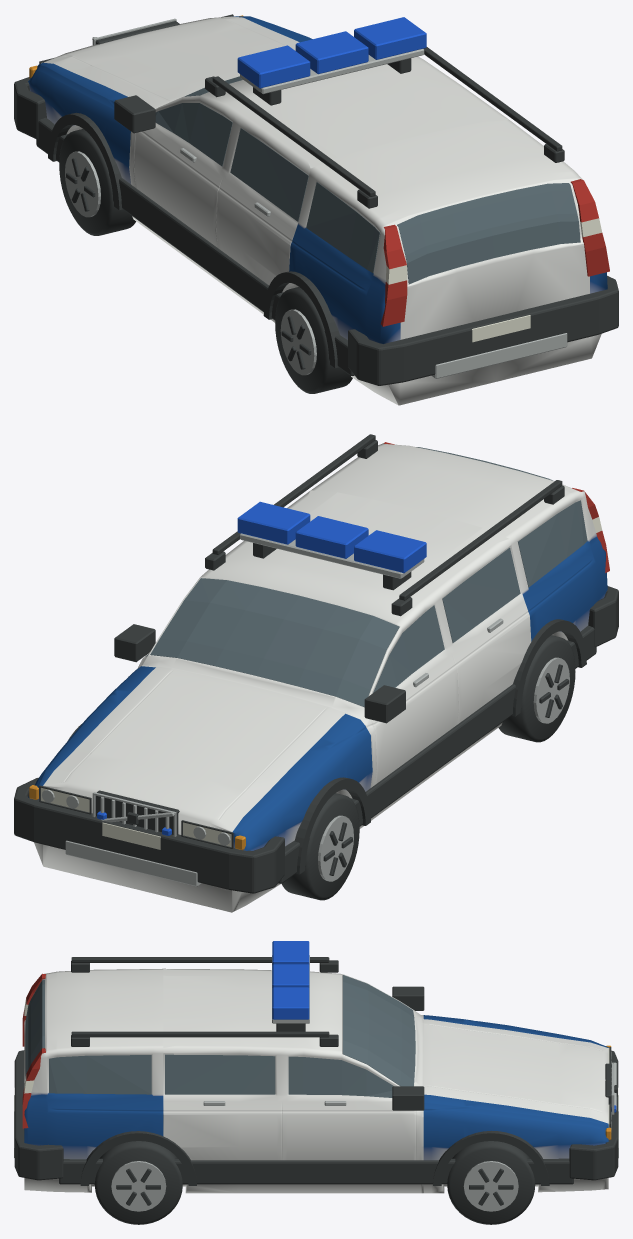
File: xc70-police.glb
3 views of the same model, one above another, from view 1: azimuth 30°, elevation 25°; view 2: azimuth 150°, elevation 25°; view 3: azimuth 270°, elevation 25° (orthographic). The views are drawn at different scales.
Parts seen in each view (by area): view 1: body, glass_envelope, bumper_rear, trim_sill, wheel_rl, wheel_fl, lamp_blue_module, lamp_blue_module.001, lamp_blue_module.002, lamp_tail, trim_skid_rear, lamp_tail.001 (+12 smaller); view 2: body, glass_envelope, bumper_front, trim_sill, wheel_rl, wheel_fl, lamp_blue_module, lamp_blue_module.002, lamp_blue_module.001, trim_skid_front, trim_arch, trim_arch.001 (+10 smaller); view 3: body, glass_envelope, trim_sill.001, wheel_fr, wheel_rr, bumper_rear, bumper_front, trim_rim_rr, trim_rim_fr, trim_roof_rail.001, trim_arch.002, trim_arch.003 (+9 smaller).
Part boxes in pixels (left/top/right/bottom): body: left=28, top=16, right=607, bottom=405; glass_envelope: left=155, top=76, right=580, bottom=284; bumper_rear: left=348, top=275, right=618, bottom=385; trim_sill: left=36, top=117, right=354, bottom=375; wheel_rl: left=275, top=287, right=352, bottom=393; wheel_fl: left=59, top=129, right=135, bottom=235; lamp_blue_module: left=237, top=45, right=310, bottom=88; lamp_blue_module.001: left=295, top=31, right=368, bottom=74; lamp_blue_module.002: left=354, top=17, right=426, bottom=59; lamp_tail: left=380, top=224, right=407, bottom=326; trim_skid_rear: left=431, top=333, right=567, bottom=378; lamp_tail.001: left=570, top=179, right=609, bottom=276; body: left=28, top=443, right=607, bottom=912; glass_envelope: left=146, top=447, right=587, bottom=707; bumper_front: left=14, top=777, right=284, bottom=893; trim_sill: left=278, top=625, right=596, bottom=883; wheel_rl: left=498, top=635, right=575, bottom=742; wheel_fl: left=282, top=793, right=359, bottom=900; lamp_blue_module: left=354, top=530, right=426, bottom=573; lamp_blue_module.002: left=237, top=501, right=310, bottom=544; lamp_blue_module.001: left=295, top=516, right=368, bottom=558; trim_skid_front: left=65, top=840, right=201, bottom=886; trim_arch: left=294, top=777, right=370, bottom=874; trim_arch.001: left=512, top=619, right=586, bottom=716; body: left=24, top=968, right=608, bottom=1193; glass_envelope: left=25, top=975, right=415, bottom=1097; trim_sill.001: left=59, top=1158, right=573, bottom=1184; wheel_fr: left=447, top=1141, right=535, bottom=1224; wheel_rr: left=94, top=1141, right=182, bottom=1224; bumper_rear: left=14, top=1050, right=63, bottom=1180; bumper_front: left=569, top=1050, right=618, bottom=1180; trim_rim_rr: left=111, top=1161, right=166, bottom=1211; trim_rim_fr: left=463, top=1161, right=518, bottom=1211; trim_roof_rail.001: left=71, top=1031, right=329, bottom=1037; trim_arch.002: left=433, top=1130, right=549, bottom=1185; trim_arch.003: left=80, top=1131, right=196, bottom=1185.
Bounding box in the file's own units: 2.02 × 1.75 × 4.74.
